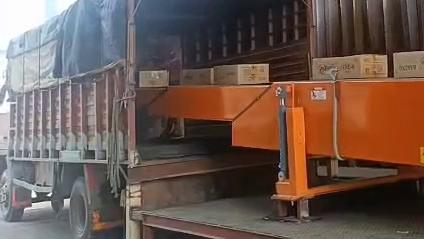box: (312, 55, 388, 79), (214, 63, 269, 84), (394, 52, 424, 77), (179, 68, 213, 85)
